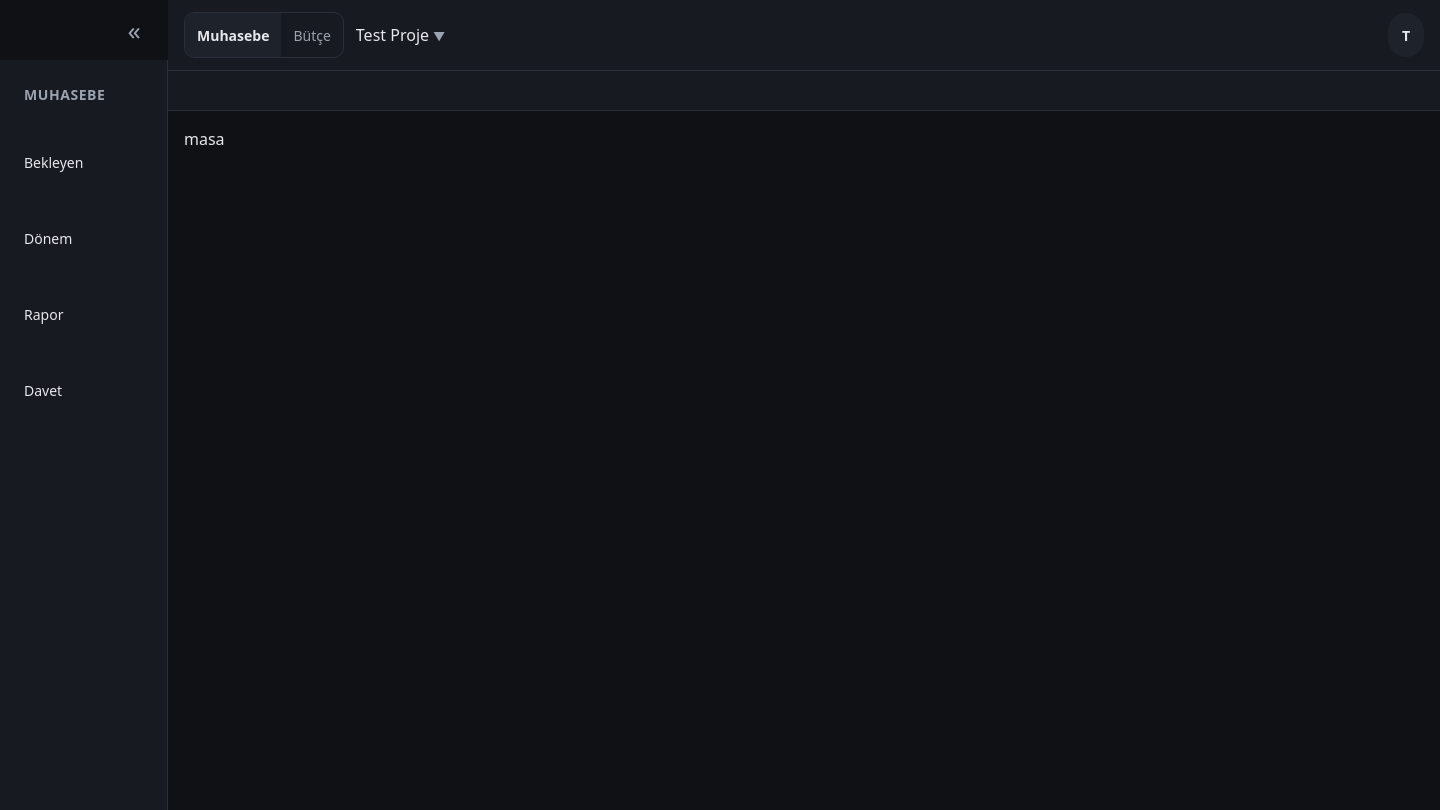
it: AppShell — sol ray daraltma dugmesi › tekrar basinca ray geri gelir
Click the button named "Rayı kapat": (134,30) [112,8,156,52]
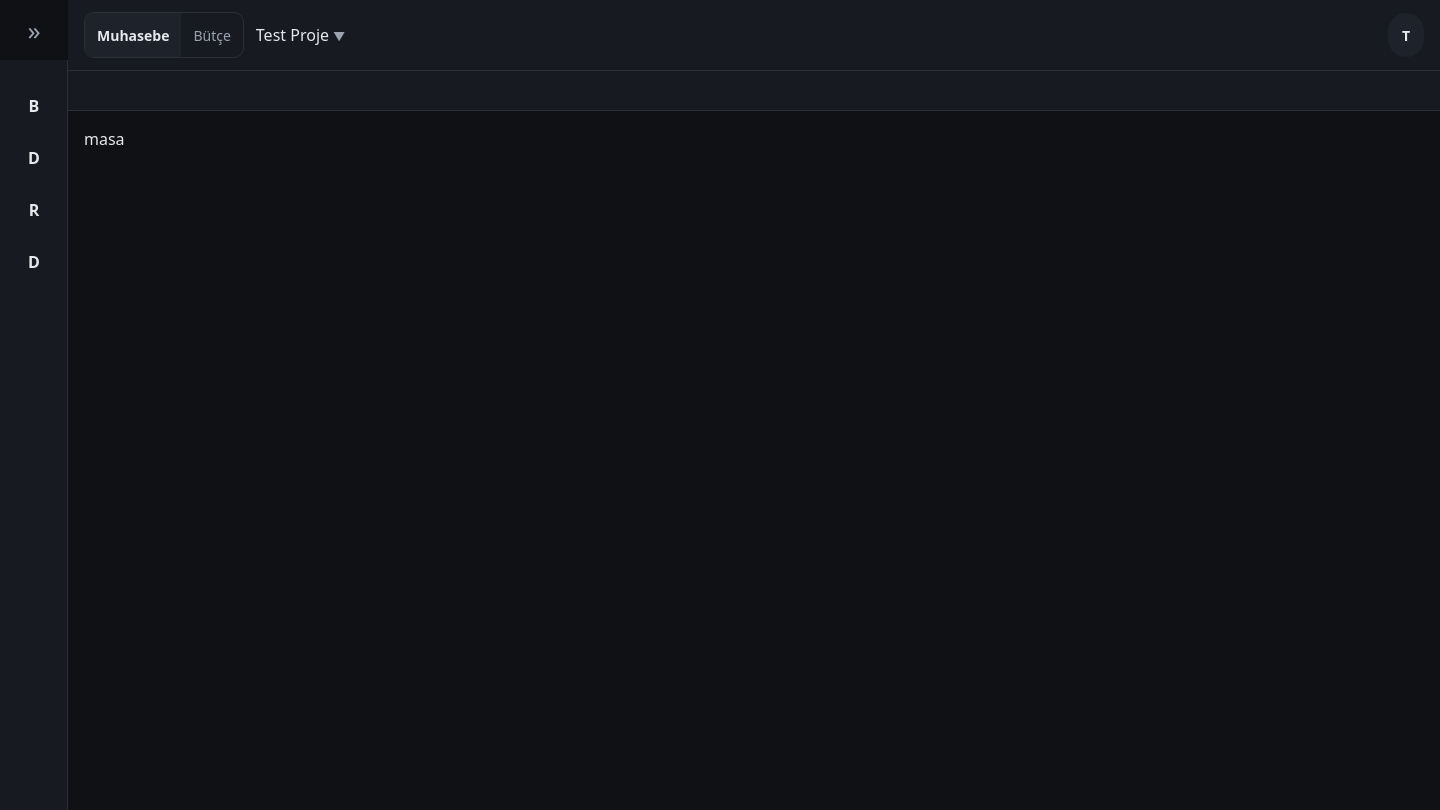
Click the button named "Rayı aç": (34,30) [12,8,56,52]
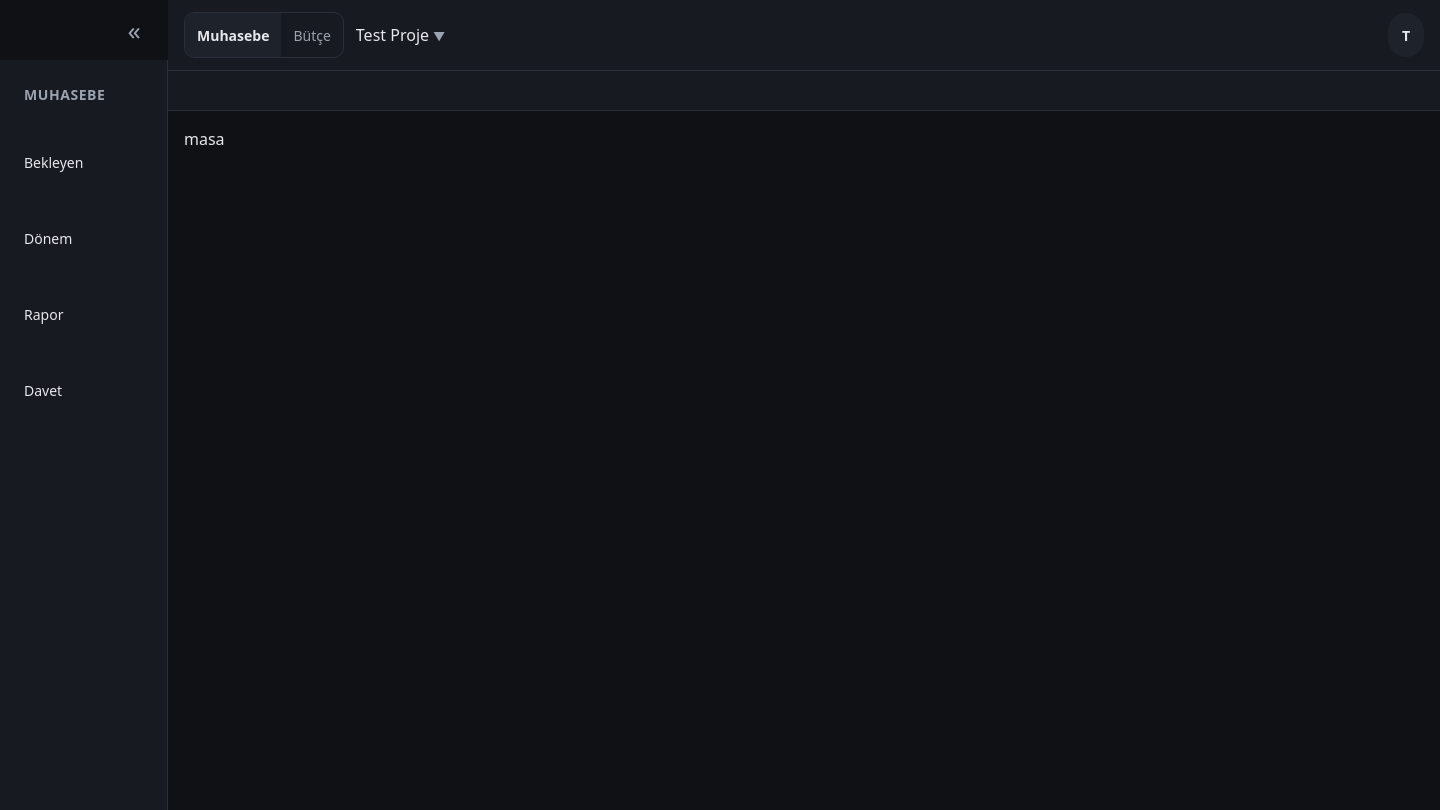
Expected: the link "Bekleyen" is shown, [24,153,83,172]
Expected: the button named "Rayı kapat" is expanded, [112,8,156,52]
